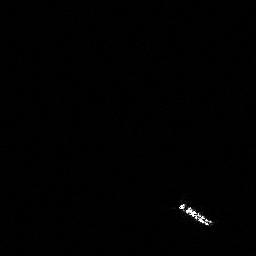ship: (177, 199, 215, 229)
